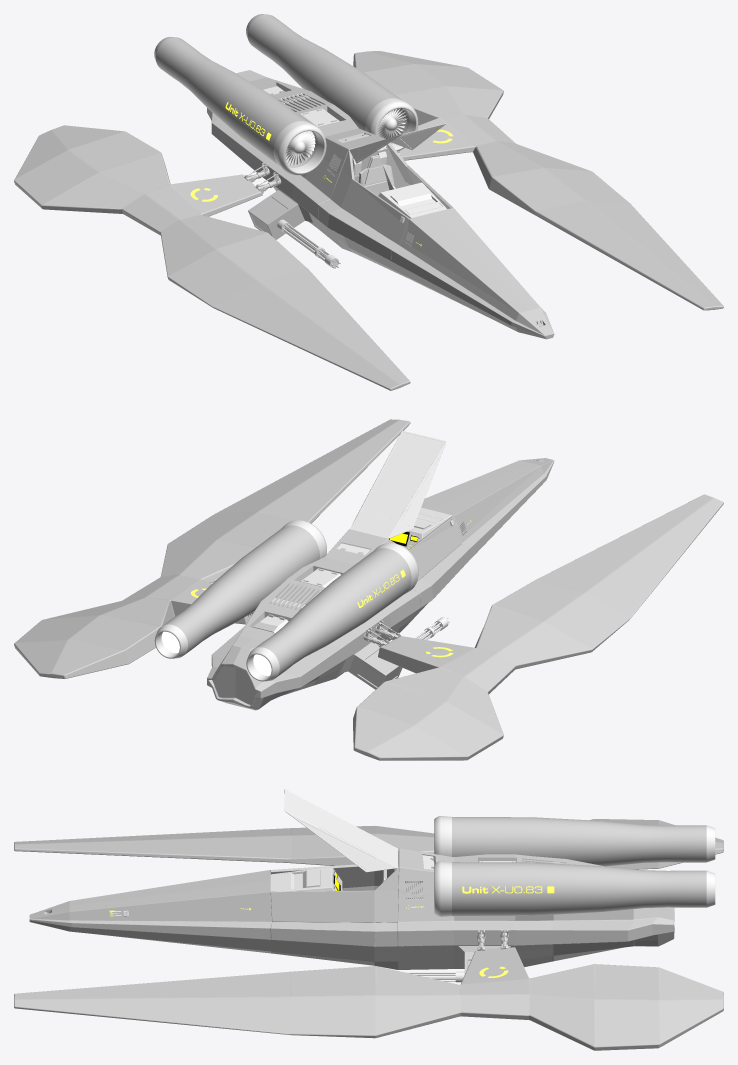
The picture shows the model from 3 angles, top to bottom: view 1: azimuth 30°, elevation 25°; view 2: azimuth 150°, elevation 25°; view 3: azimuth 270°, elevation 25°; orthographic projection.
Visible parts, largest first — view 1: Fighter.008, Cc Label_Cc-Label, canope; view 2: Fighter.008, Cc Label_Cc-Label, canope; view 3: Fighter.008, Cc Label_Cc-Label, canope.
Boxes of the visible parts, x1,y1,x2,y2 form: Fighter.008: [14, 51, 723, 390]; Cc Label_Cc-Label: [154, 14, 418, 175]; canope: [349, 123, 446, 163]; Fighter.008: [14, 419, 723, 760]; Cc Label_Cc-Label: [154, 520, 418, 681]; canope: [350, 430, 446, 538]; Fighter.008: [14, 819, 723, 1050]; Cc Label_Cc-Label: [434, 816, 715, 916]; canope: [284, 789, 398, 872].
Bounding box in the file's own units: 11.68 × 3.91 × 15.23.
Materials: 29 (6 with a texture image).
